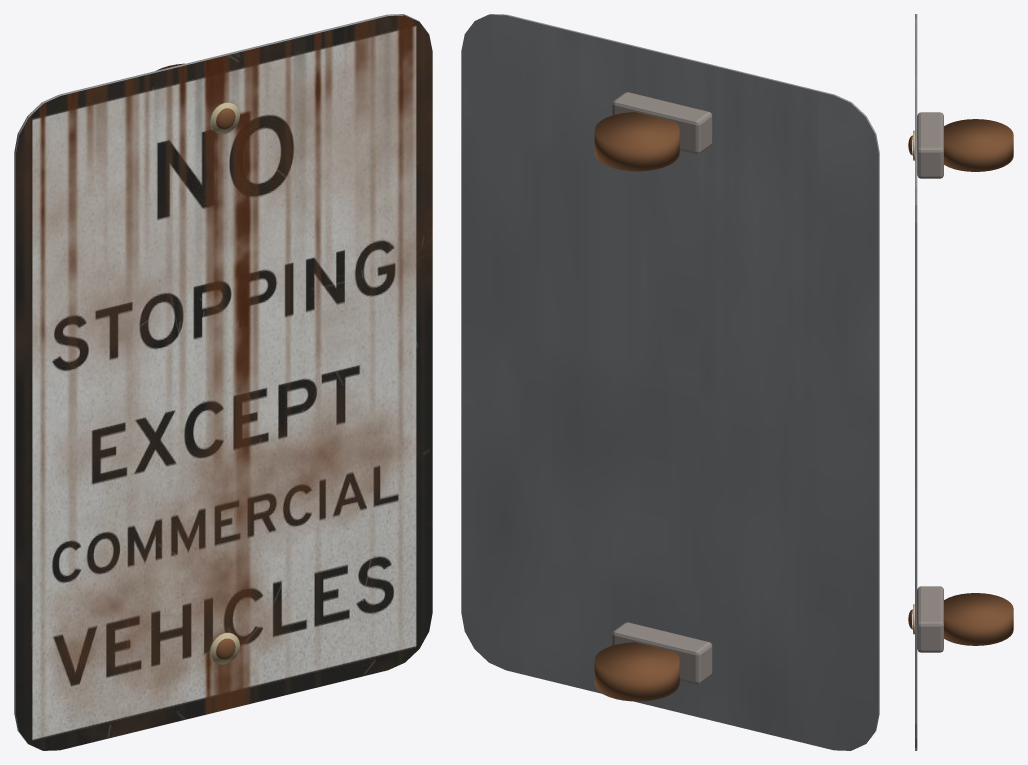
File: regulatory-v1-rusty.glb
3 views of the same model, side by side, from view 1: azimuth 30°, elevation 25°; view 2: azimuth 150°, elevation 25°; view 3: azimuth 270°, elevation 25° (orthographic). The views are drawn at different scales.
Visible parts, largest first — view 1: regulatory-v1-rusty; view 2: regulatory-v1-rusty; view 3: regulatory-v1-rusty.
Boxes of the visible parts, box(x1,y1,x2,y2) form: regulatory-v1-rusty: box(14, 14, 432, 750); regulatory-v1-rusty: box(461, 14, 879, 750); regulatory-v1-rusty: box(908, 14, 1013, 750).
Bounding box in the file's own units: 0.3556 × 0.5334 × 0.0871.
Materials: 1 (1 with a texture image).
